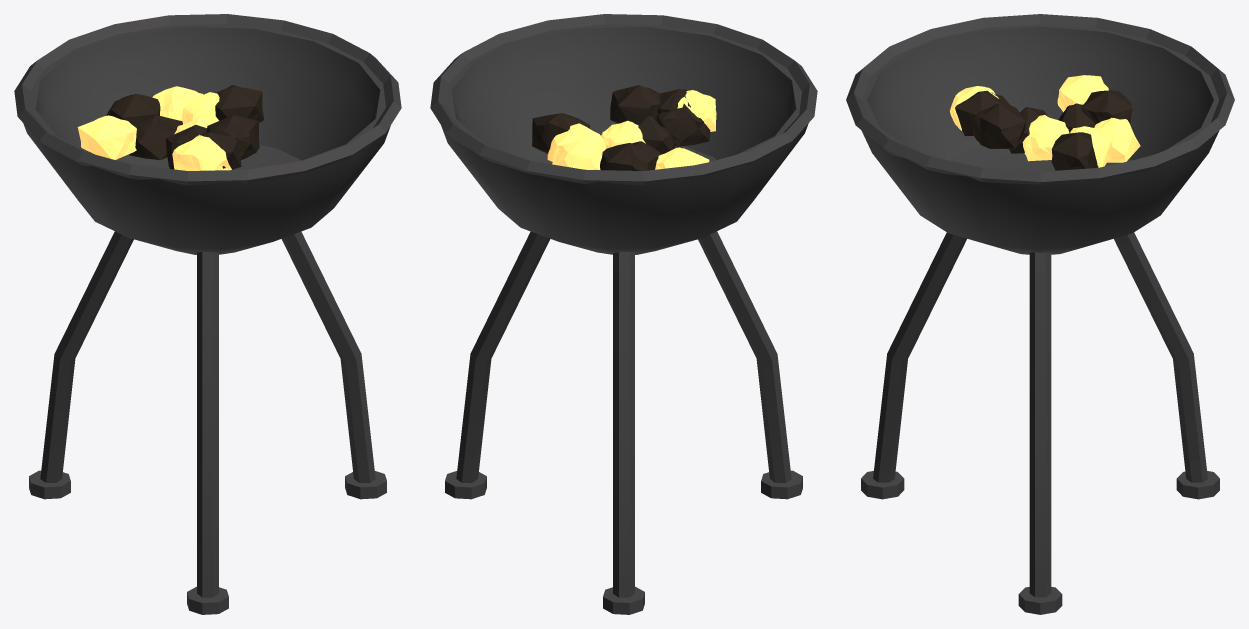
File: brazier.glb
The picture shows the model from 3 angles, left to right: view 1: azimuth 30°, elevation 25°; view 2: azimuth 150°, elevation 25°; view 3: azimuth 270°, elevation 25°; orthographic projection.
Parts seen in each view (by area): view 1: brazier; view 2: brazier; view 3: brazier.
Boxes of the visible parts, box(x1,y1,x2,y2) form: brazier: box(14, 14, 401, 614); brazier: box(430, 14, 817, 614); brazier: box(846, 14, 1234, 614).
Size of what is drawn, in the model's own units: 0.918 by 1.11 by 0.896.
